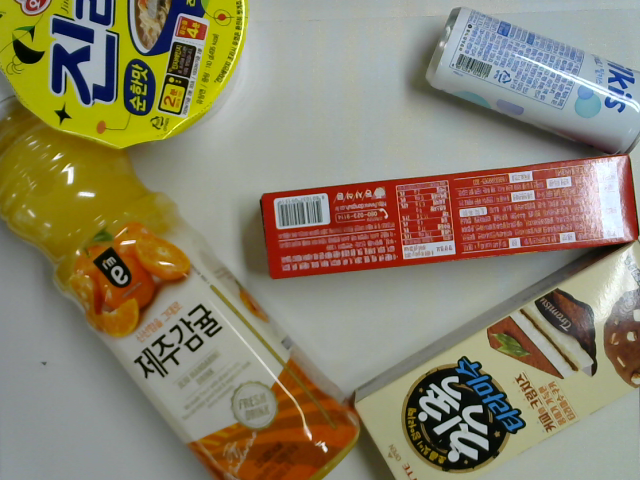Chicchok_Tiramisu: (348, 232, 637, 480)
Jeju_Tangerine_1.5L: (1, 75, 363, 478)
Jinlamyeon_Mild_Taste_Large_Cup: (1, 1, 252, 160)
Milkies_250ml: (423, 3, 640, 158)
Ritz_Cracker: (257, 150, 640, 282)
